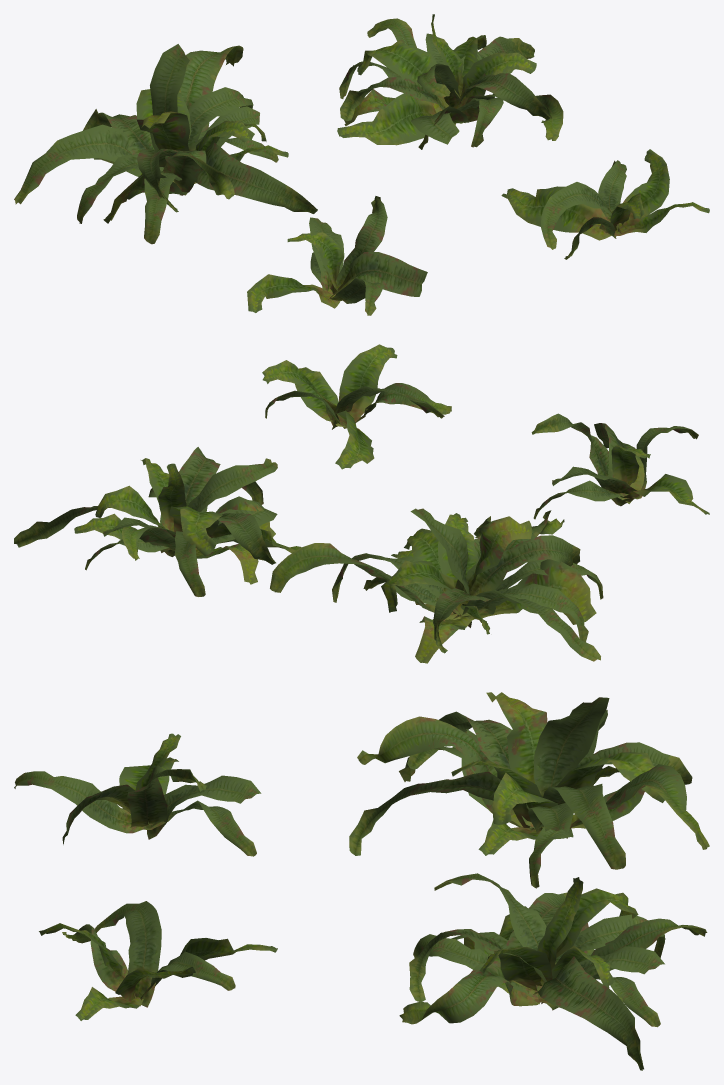
Rendered from fern.glb.
3 renders of one model, top to bottom at view 1: azimuth 30°, elevation 25°; view 2: azimuth 150°, elevation 25°; view 3: azimuth 270°, elevation 25°, orthographic. The views are drawn at different scales.
Parts seen in each view (by area): view 1: fern_02_b; view 2: fern_02_b; view 3: fern_02_b.
Part boxes in pixels (x1,y1,x2,y2): fern_02_b: [14, 14, 709, 315]; fern_02_b: [14, 344, 709, 663]; fern_02_b: [14, 692, 709, 1070].
Size of the model in its own units: 1.97 by 0.4277 by 1.72.
Materials: 1 (1 with a texture image).
